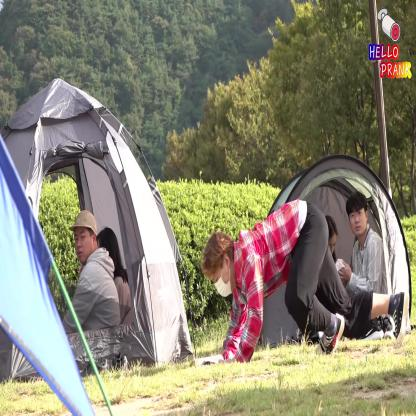Fall_Down: (203, 197, 410, 375)
